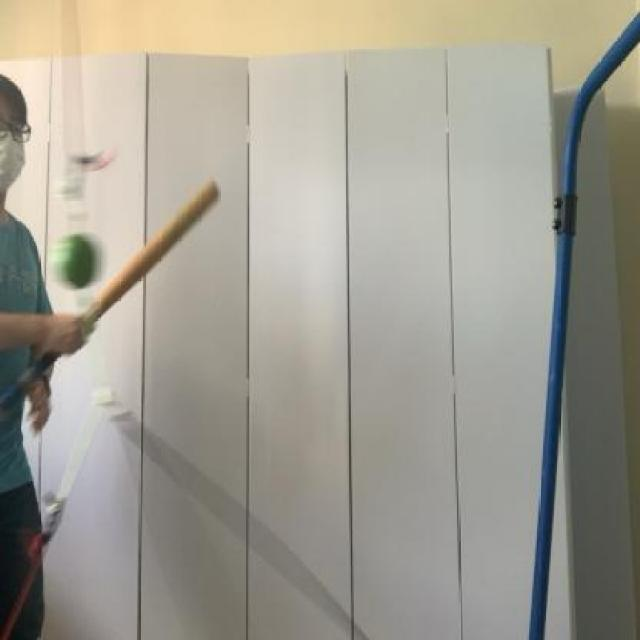baseball: (48, 225, 119, 307)
